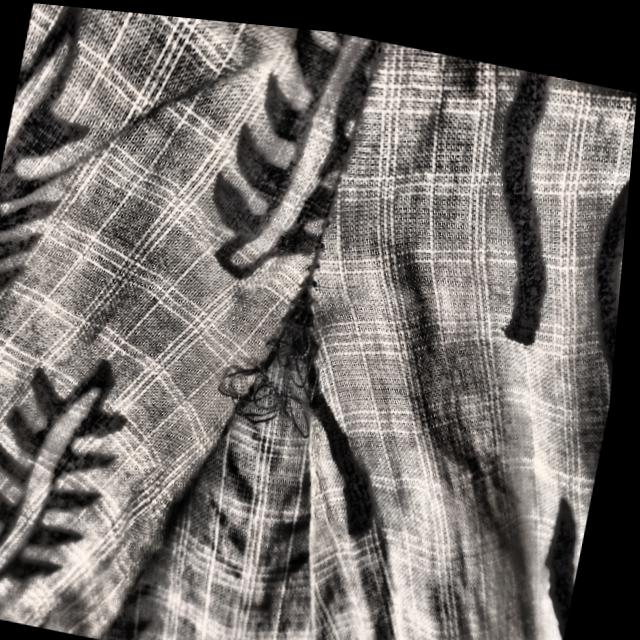Stitch: (179, 182, 427, 515)
